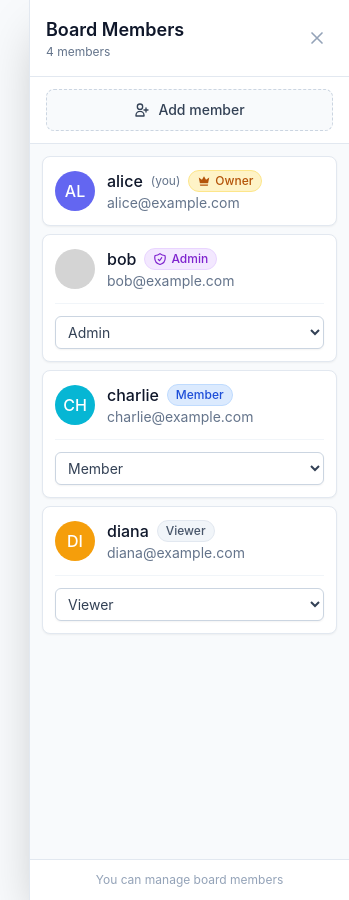
it: BoardMembersPanel › add member functionality (canManage=true) › displays search results
The width and height of the screenshot is (349, 900).
Click the button "Add member": (190,110) top-left (46, 89), bottom-right (333, 131)
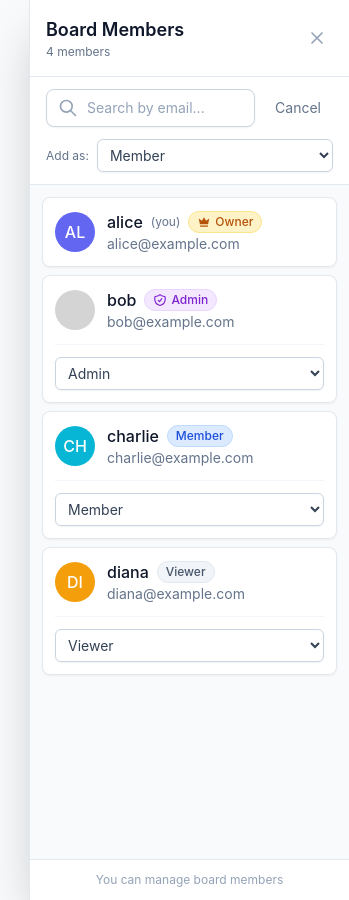
In the field with placeholder "Search by email...": (151,108) top-left (46, 89), bottom-right (255, 127), type "eve@"
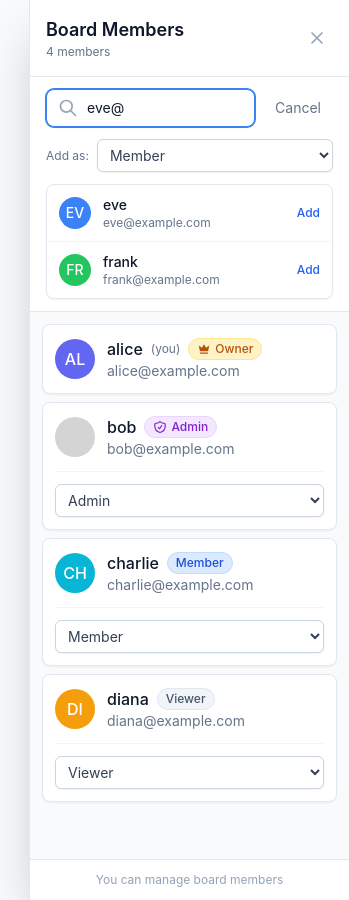
Check: the text "eve" is shown, box top-left (103, 196), bottom-right (127, 213)
Check: the text "frank" is shown, box top-left (103, 253), bottom-right (138, 270)
